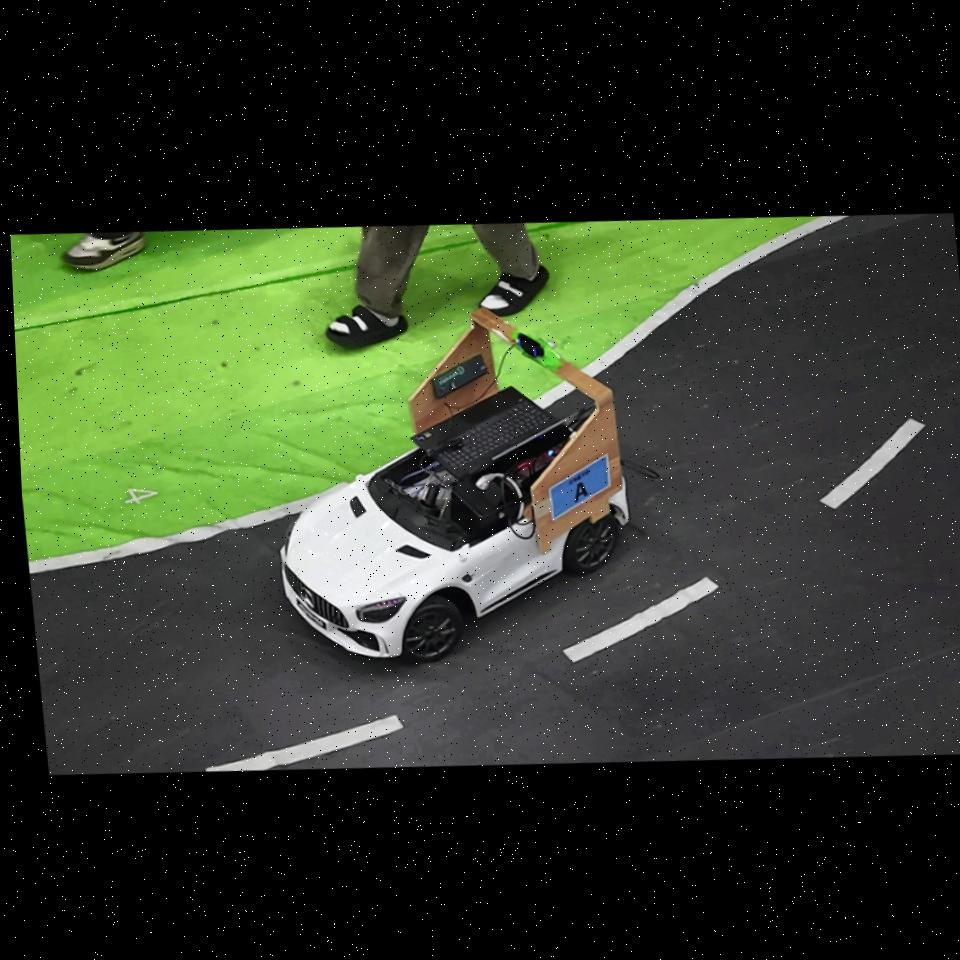broken_line: (563, 577, 718, 662), (206, 714, 404, 771), (821, 418, 925, 508)
